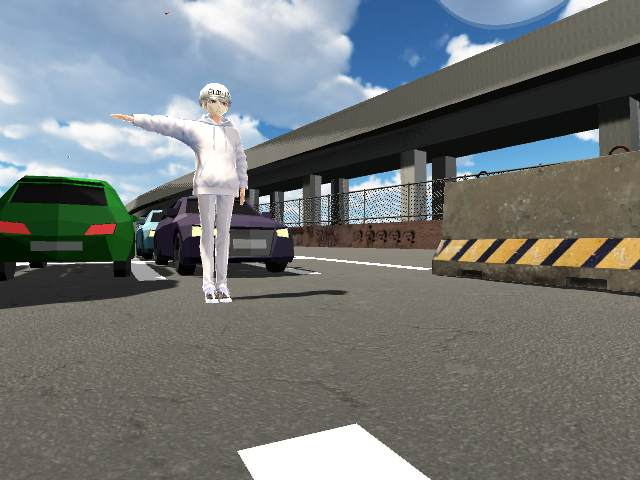singleP_left: (108, 81, 249, 308)
